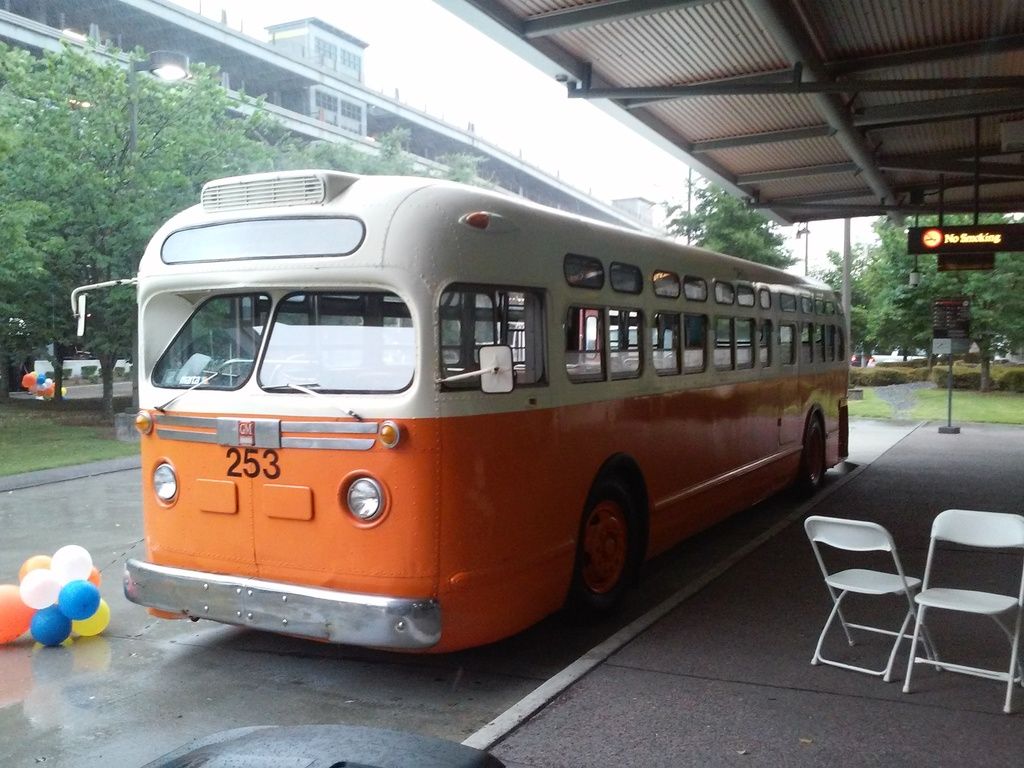Bus: (70, 169, 849, 654)
